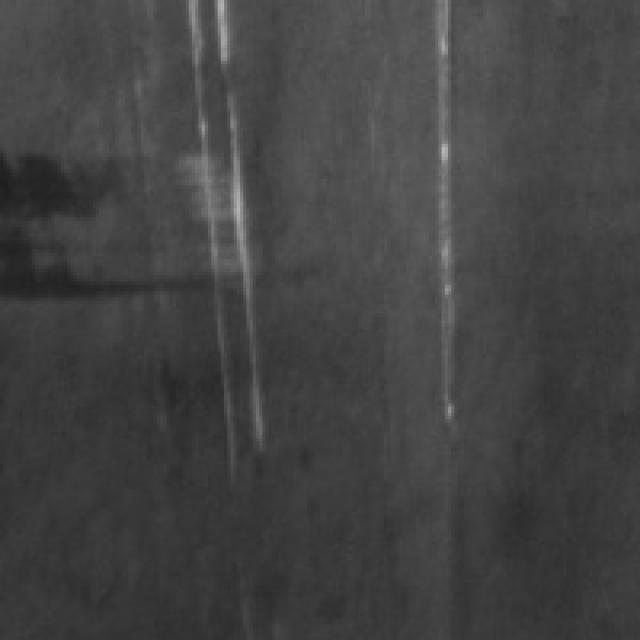inclusion: (7, 147, 276, 298)
scratches: (182, 0, 278, 467), (422, 0, 473, 419)
